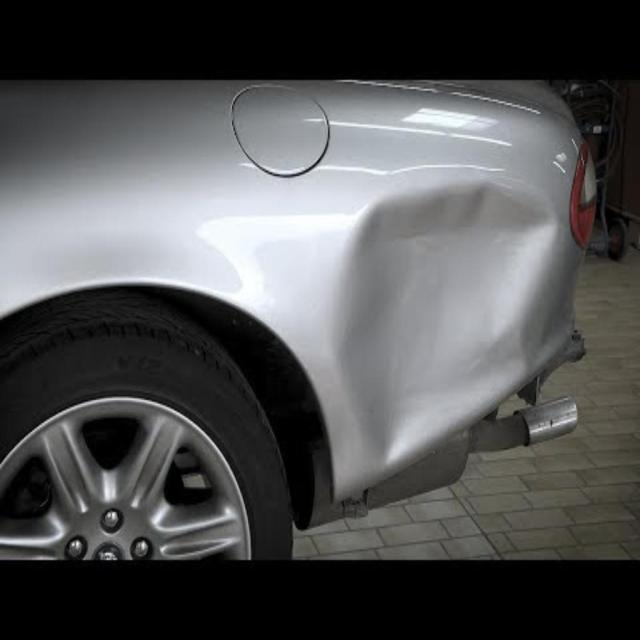Damage: (254, 169, 584, 545)
